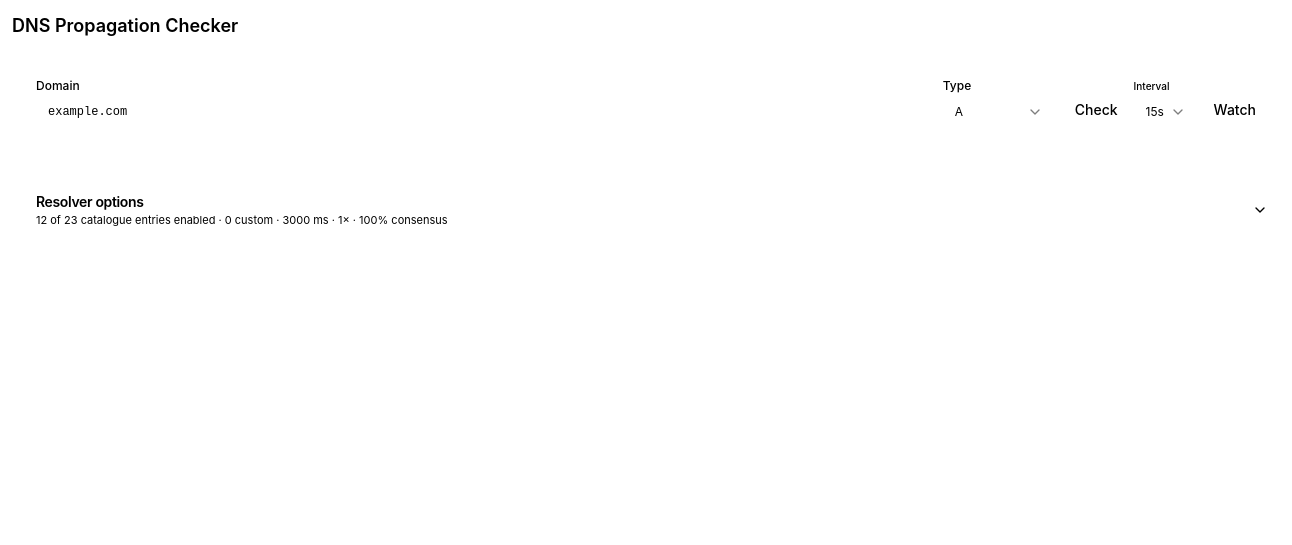
Test: normalizes missing nested record arrays without crashing
This screenshot has width=1292, height=545.
Click the button "Check": (1096, 110) [1063,92,1130,128]
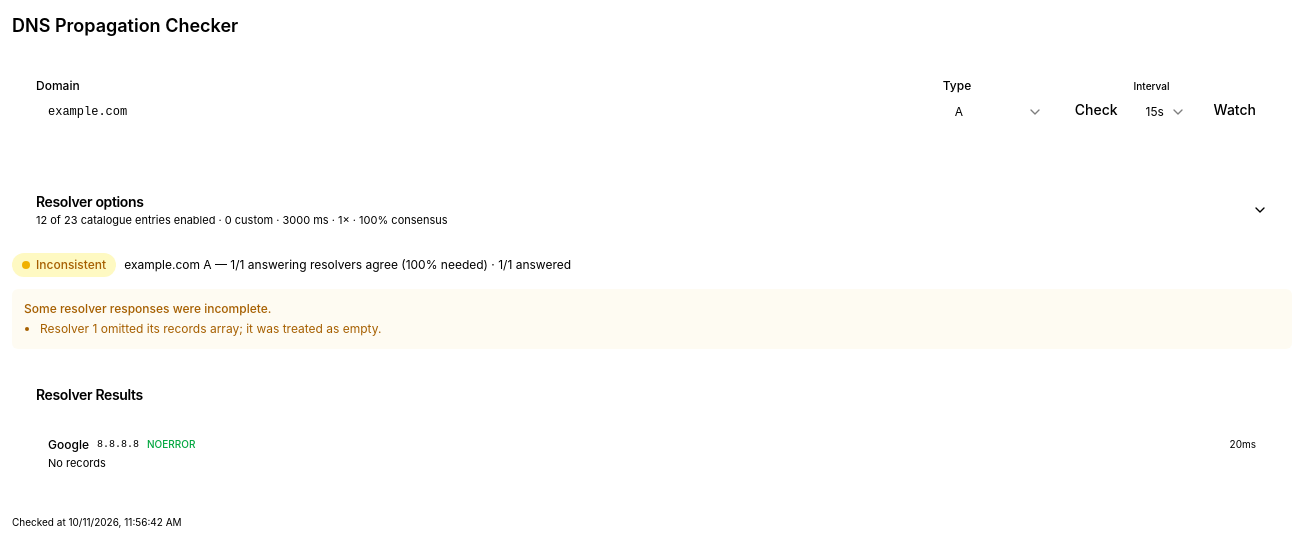
Expected: the text "No records" is shown, [48,456,106,470]
Expected: the message with test id "propagation-response-warning" shows "omitted its records array", [40,320,381,336]
